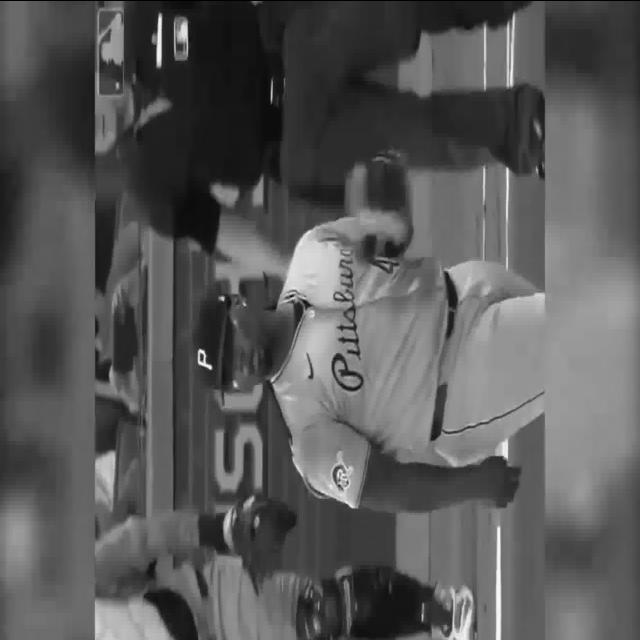baseball_glove: (346, 146, 414, 262), (230, 489, 296, 599)
shoe: (434, 574, 484, 636)
